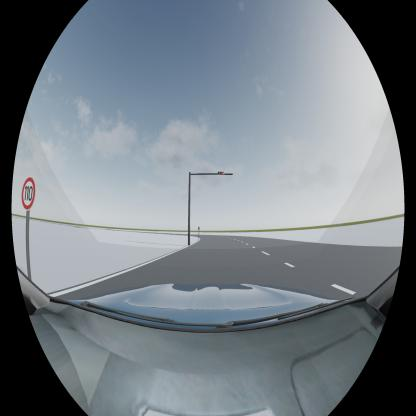Red Light: (217, 171, 225, 176)
Speed Limit 110: (21, 176, 35, 210)
